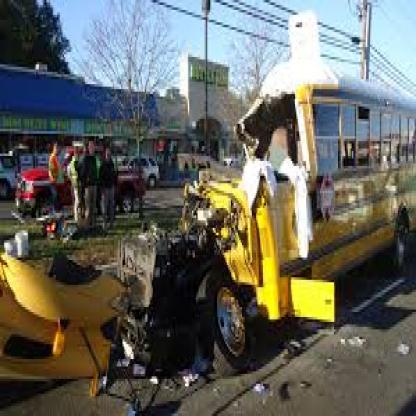accident: (145, 46, 416, 391)
